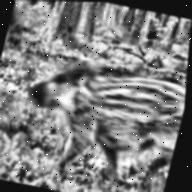boar: (12, 47, 189, 182)
